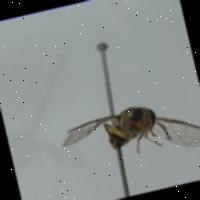Oriental-fruit-fly: (48, 84, 200, 183)
